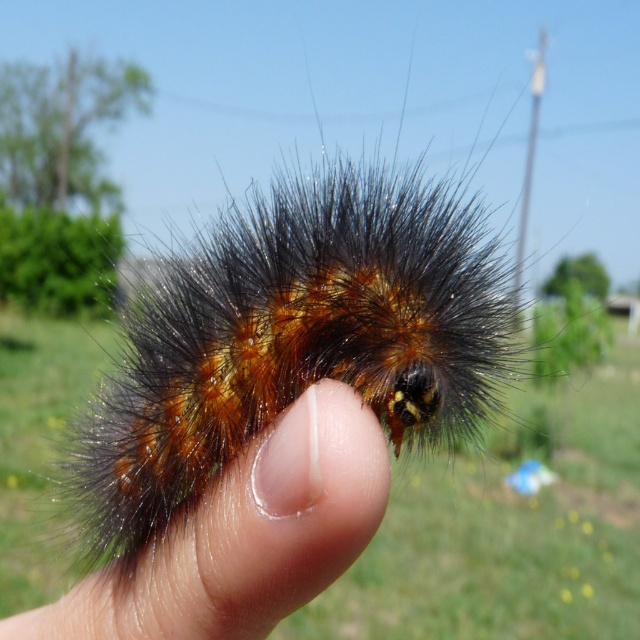Caterpillar: (19, 7, 622, 600)
